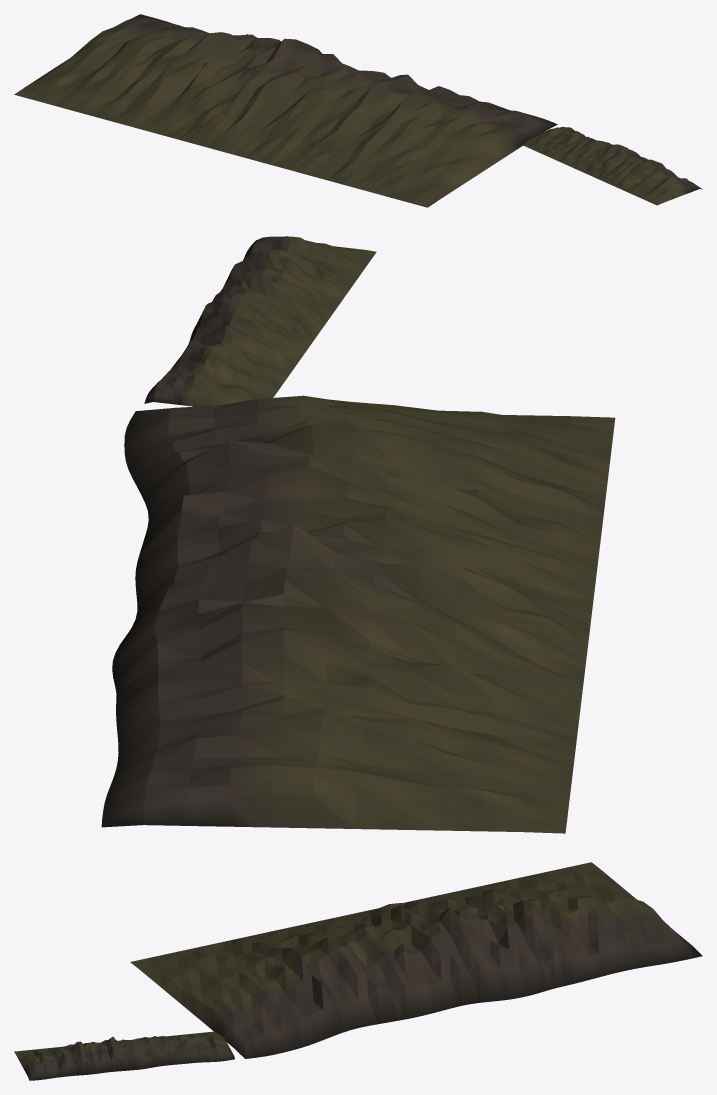
The model's file is costa.glb.
3 views of the same model, one above another, from view 1: azimuth 30°, elevation 25°; view 2: azimuth 150°, elevation 25°; view 3: azimuth 270°, elevation 25° (orthographic). The views are drawn at different scales.
Parts seen in each view (by area): view 1: costa.001; view 2: costa.001; view 3: costa.001.
Boxes of the visible parts, bbox=[...] form: costa.001: bbox=[14, 14, 702, 207]; costa.001: bbox=[101, 236, 615, 833]; costa.001: bbox=[14, 862, 702, 1080].
Size of the model in its own units: 1888 by 246 by 2537.
